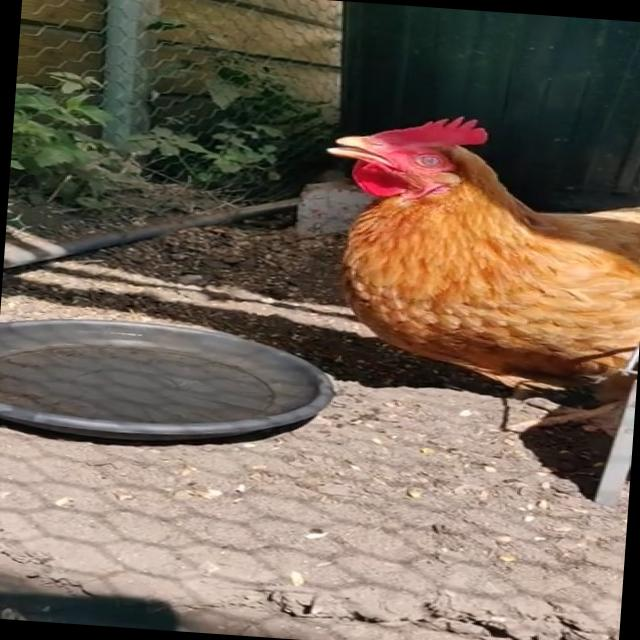drinking: (266, 117, 640, 404)
